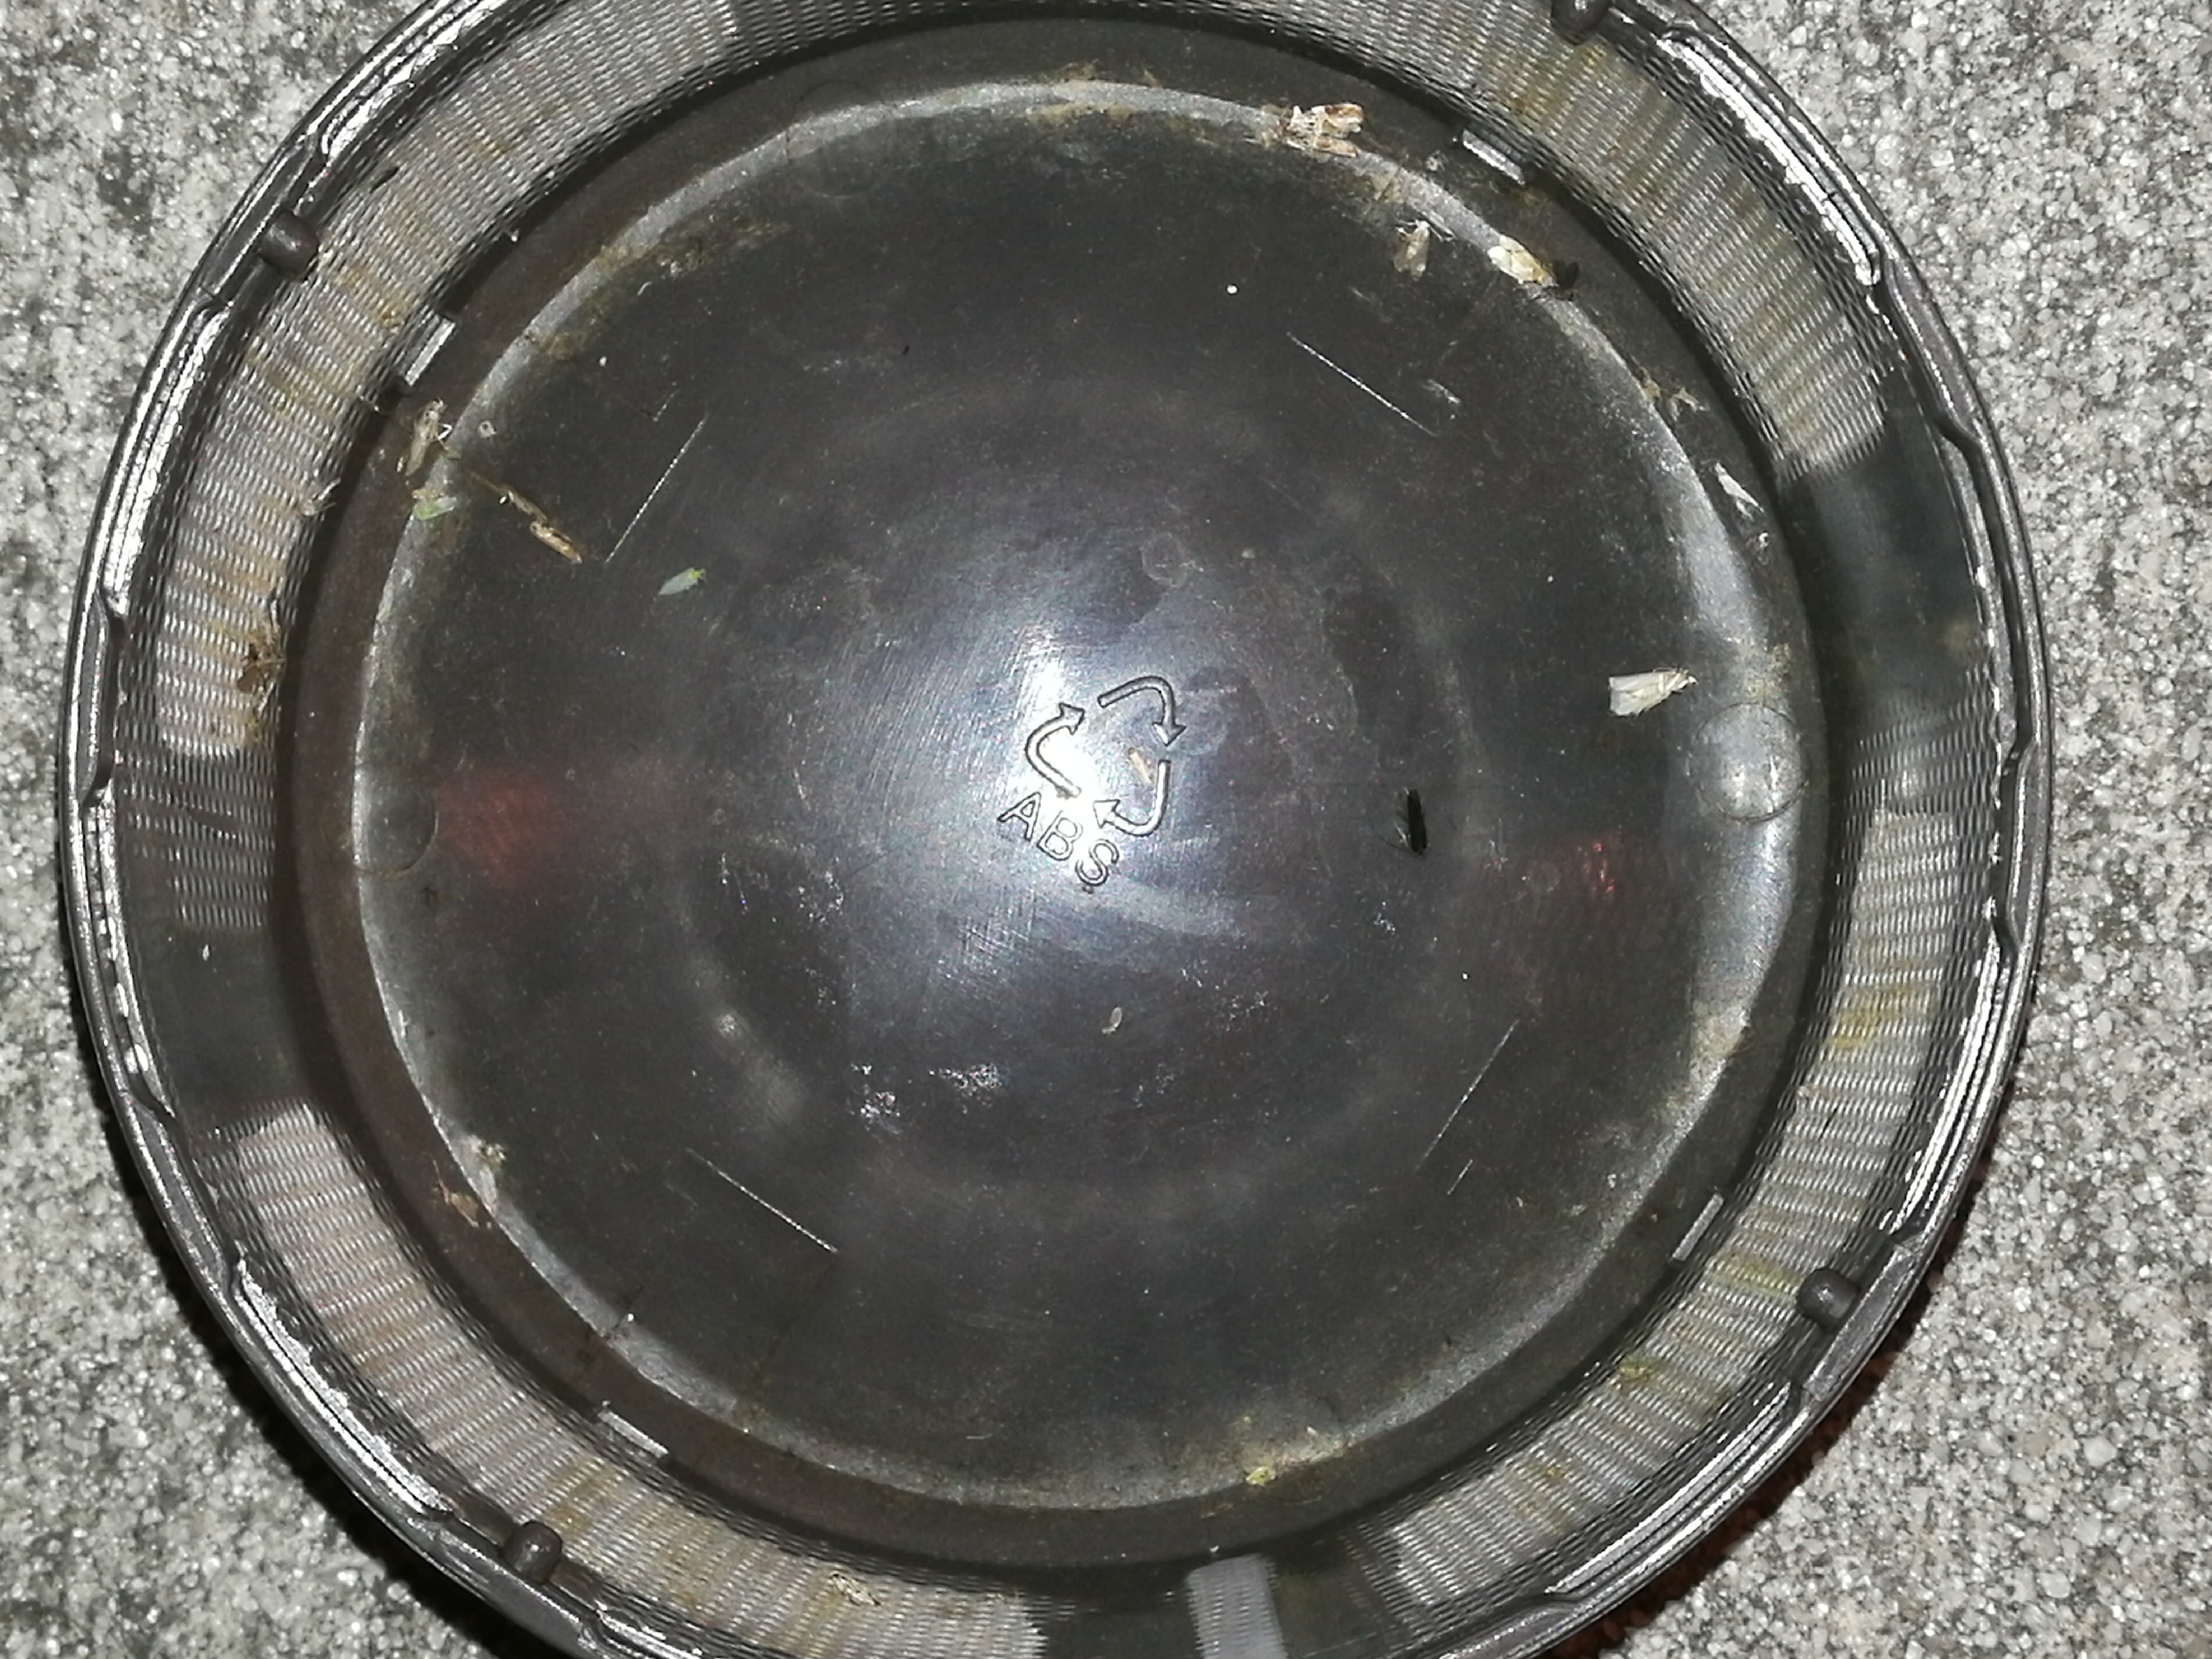mosquito: (1608, 671, 1693, 714), (1486, 237, 1552, 284), (408, 401, 442, 472), (1407, 789, 1426, 854)
moth: (1287, 103, 1364, 153), (1395, 220, 1428, 281)
